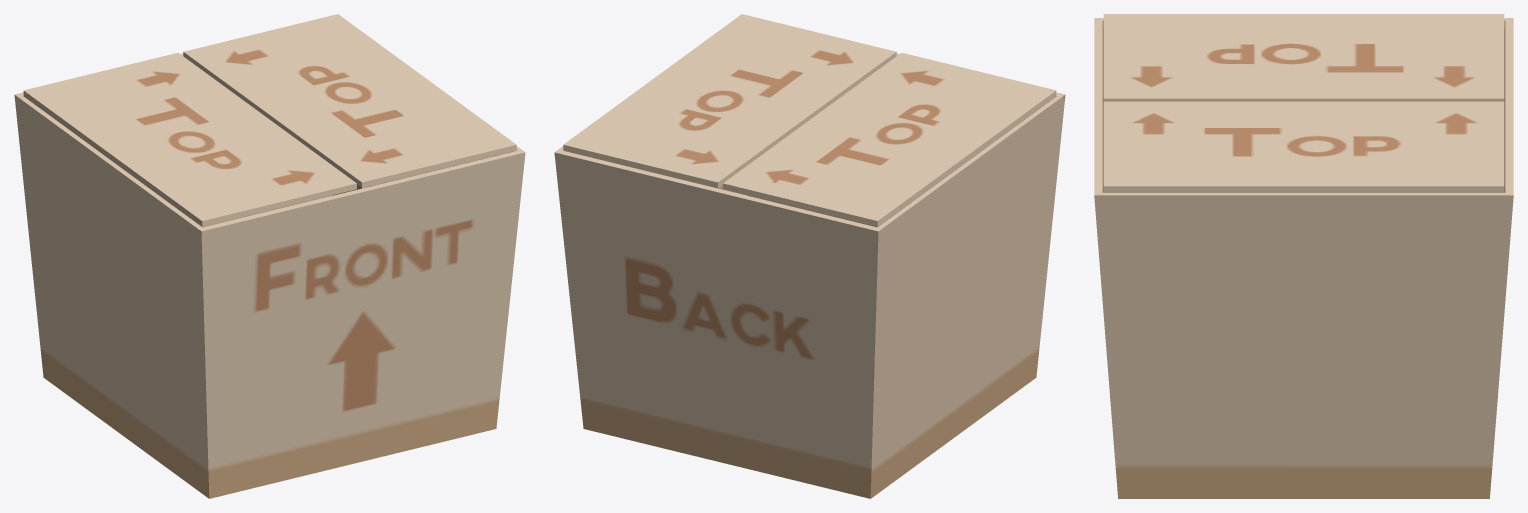
3 views of the same model, side by side, from view 1: azimuth 30°, elevation 25°; view 2: azimuth 150°, elevation 25°; view 3: azimuth 270°, elevation 25° (orthographic). The views are drawn at different scales.
Visible parts, largest first — view 1: box_Base, box_Flap_01, box_Flap_02; view 2: box_Base, box_Flap_01, box_Flap_02; view 3: box_Base, box_Flap_02, box_Flap_01.
Part boxes in pixels (left/top/right/bottom): box_Base: left=14, top=53, right=525, bottom=498; box_Flap_01: left=23, top=52, right=356, bottom=226; box_Flap_02: left=183, top=14, right=516, bottom=188; box_Base: left=554, top=53, right=1065, bottom=498; box_Flap_01: left=723, top=52, right=1056, bottom=226; box_Flap_02: left=563, top=14, right=896, bottom=188; box_Base: left=1094, top=18, right=1513, bottom=498; box_Flap_02: left=1103, top=101, right=1504, bottom=192; box_Flap_01: left=1103, top=14, right=1504, bottom=101.
Bounding box in the file's own units: 10 × 8.43 × 10.
